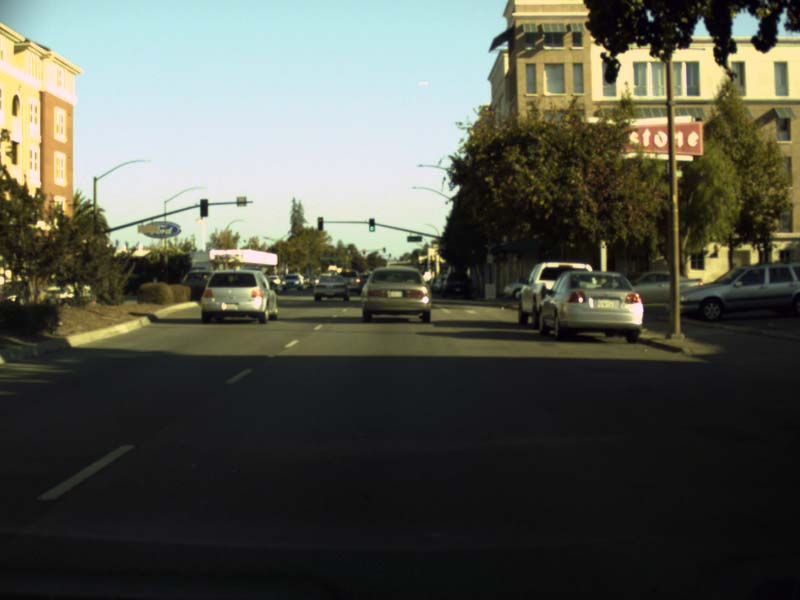Green: (368, 218, 374, 231)
Red: (317, 216, 322, 230)
